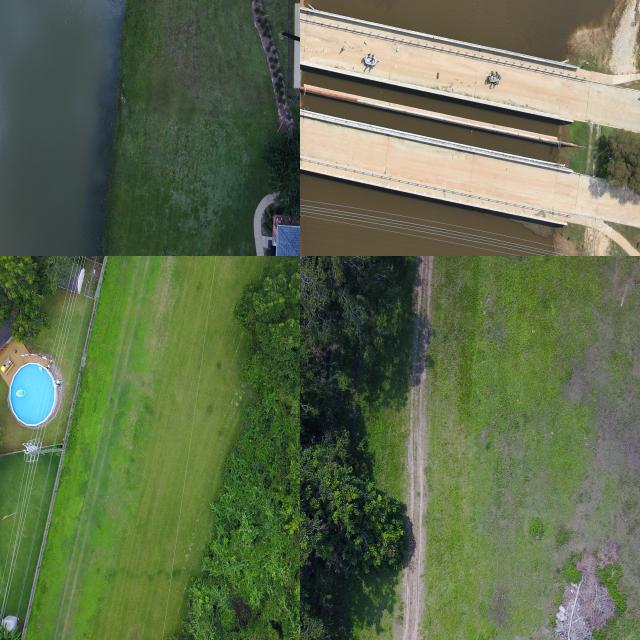fire: (0, 0, 125, 256), (302, 68, 581, 143), (300, 175, 557, 256), (300, 91, 561, 161)
